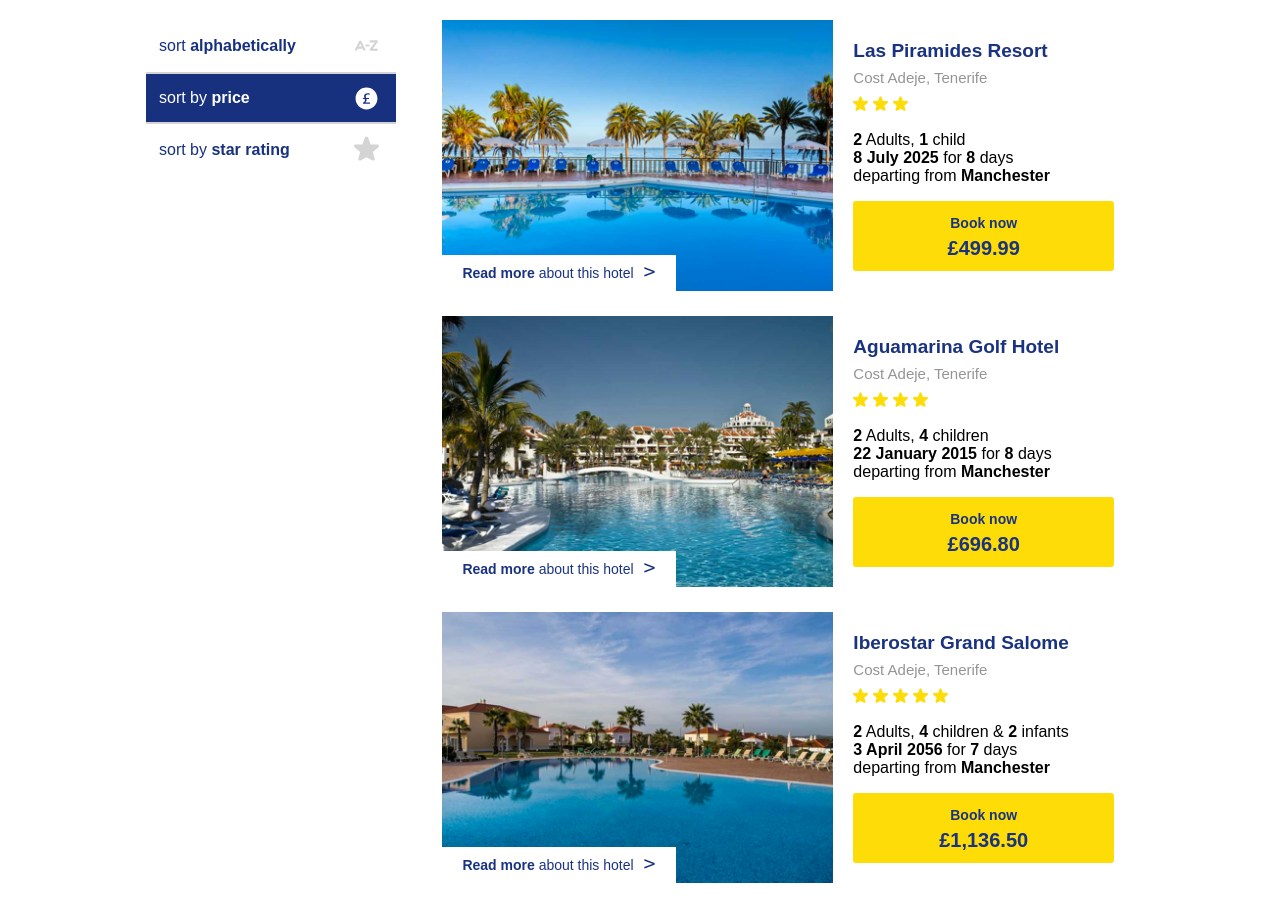
Test: SortableInfoCards › changes sorting option when star rating sort button is clicked
The width and height of the screenshot is (1280, 900).
Step 1. Click the button with test id "sort-star" → coordinates (271, 150), box left=146, top=124, right=396, bottom=176
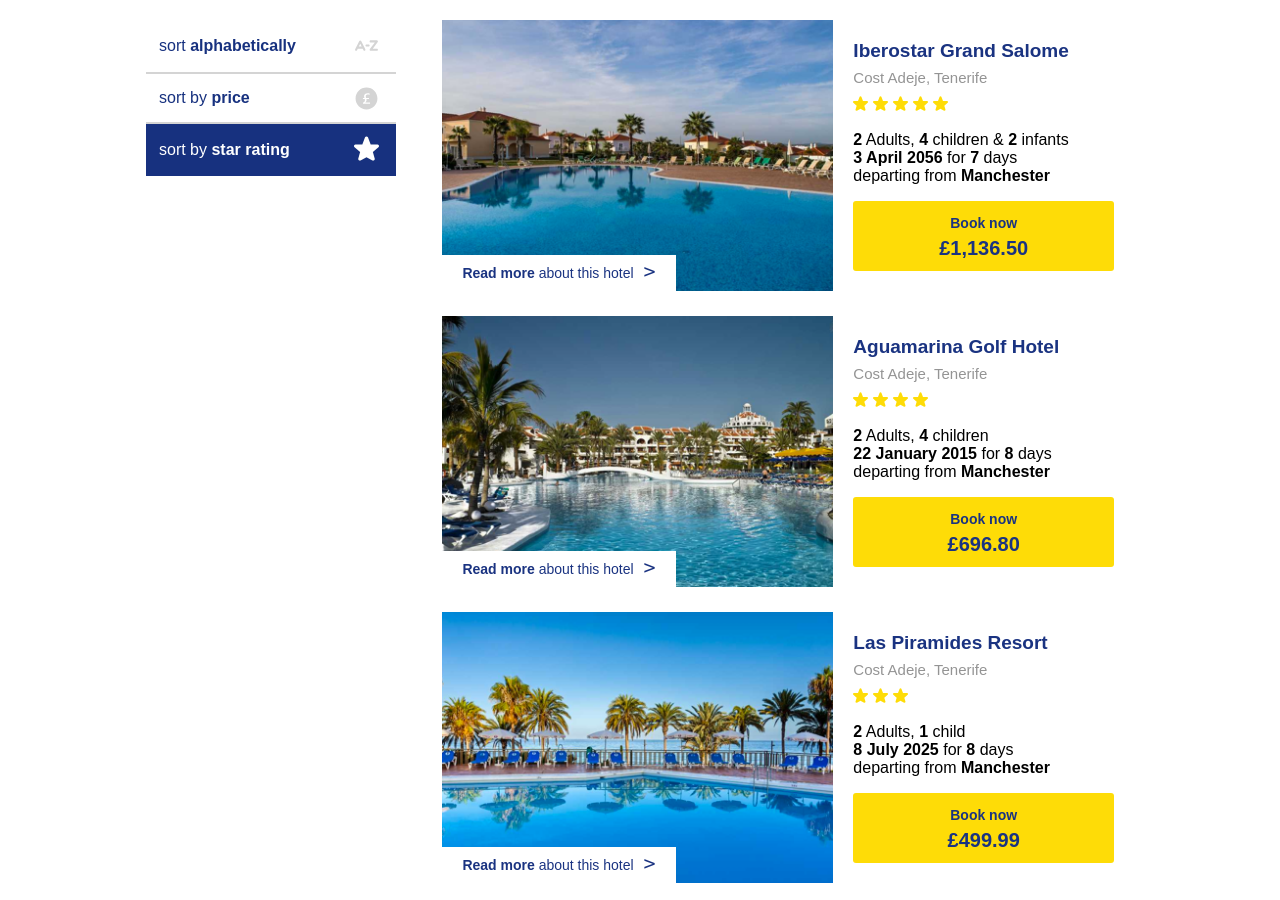
Check: the elements with test id "hotelName" read "Iberostar Grand Salome", "Aguamarina Golf Hotel", "Las Piramides Resort", in this order, box left=853, top=40, right=1069, bottom=61; left=853, top=336, right=1059, bottom=357; left=853, top=632, right=1048, bottom=653
